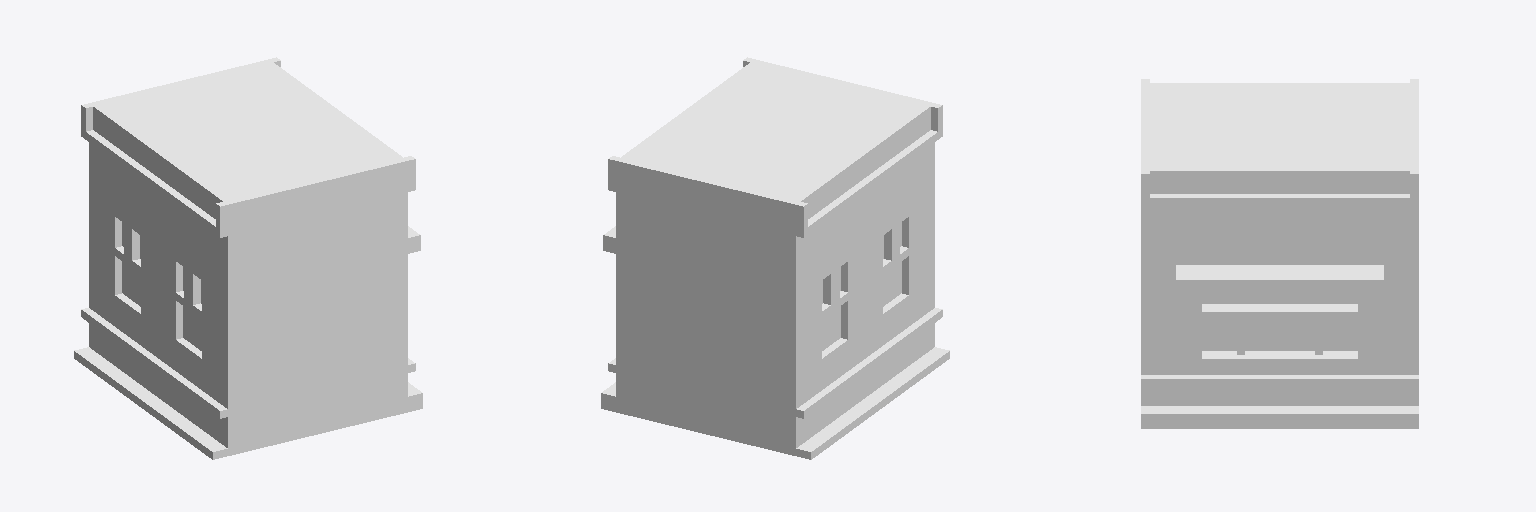
File: tile_1_middle_nr_90.obj
3 renders of one model, left to right at view 1: azimuth 30°, elevation 25°; view 2: azimuth 150°, elevation 25°; view 3: azimuth 270°, elevation 25°, orthographic.
Parts seen in each view (by area): view 1: object 1; view 2: object 1; view 3: object 1.
Part boxes in pixels (bbox=[...]): object 1: bbox=[74, 57, 422, 459]; object 1: bbox=[601, 57, 949, 459]; object 1: bbox=[1141, 79, 1418, 428].
Size of the model in its own units: 3 by 3.2 by 3.2.